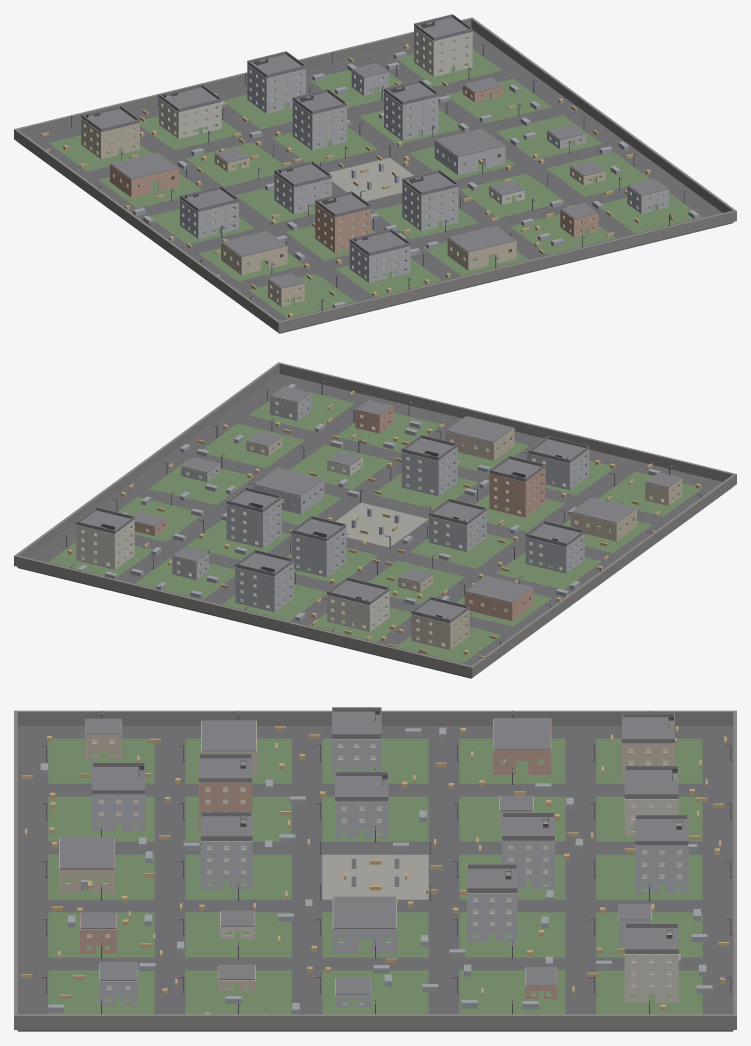
Rendered from br_town.glb.
The picture shows the model from 3 angles, top to bottom: view 1: azimuth 30°, elevation 25°; view 2: azimuth 150°, elevation 25°; view 3: azimuth 270°, elevation 25°; orthographic projection. The views are drawn at different scales.
Visible parts, largest first — view 1: Ground, Buildings, Cover; view 2: Buildings, Ground, Cover; view 3: Ground, Buildings, Cover.
Boxes of the visible parts, left/top/right/bottom form: Ground: left=21, top=30, right=733, bottom=333; Buildings: left=14, top=14, right=736, bottom=332; Cover: left=41, top=44, right=698, bottom=318; Buildings: left=14, top=362, right=736, bottom=677; Ground: left=17, top=374, right=732, bottom=678; Cover: left=68, top=384, right=701, bottom=658; Ground: left=17, top=726, right=733, bottom=1031; Buildings: left=14, top=707, right=736, bottom=1029; Cover: left=21, top=726, right=729, bottom=1014.
Bounding box in the file's own units: 190 × 16.4 × 190.
